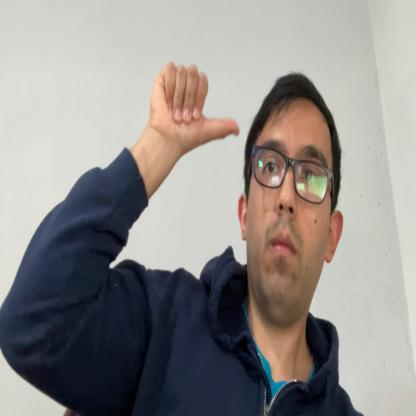A: (150, 59, 240, 148)
